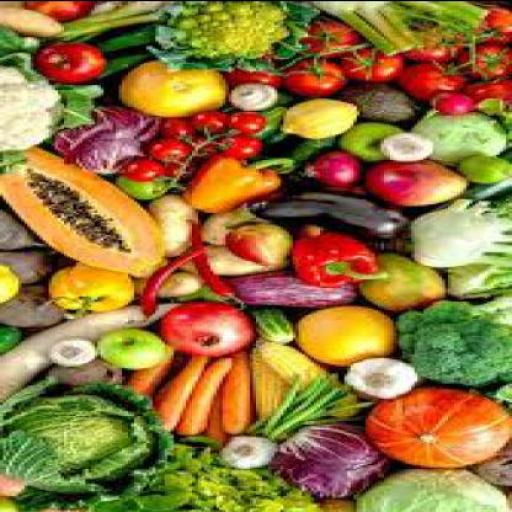biodegradable: (2, 1, 511, 511), (2, 380, 181, 511), (10, 145, 170, 278), (3, 302, 189, 408), (368, 382, 511, 468), (158, 2, 323, 73), (302, 2, 494, 60), (396, 294, 511, 390), (88, 442, 232, 511), (274, 423, 392, 500), (50, 104, 168, 175), (30, 172, 131, 251), (260, 342, 366, 416), (262, 194, 412, 242), (355, 465, 512, 510), (415, 196, 511, 268), (186, 157, 301, 213), (417, 99, 511, 166), (128, 62, 229, 120), (262, 379, 366, 435), (192, 220, 254, 313), (308, 306, 398, 370), (2, 66, 64, 152), (146, 244, 213, 322), (305, 232, 393, 290), (52, 263, 138, 319), (369, 253, 448, 312), (372, 160, 469, 208), (162, 305, 259, 353), (176, 357, 234, 437), (235, 273, 366, 307), (216, 470, 322, 512), (250, 352, 301, 430), (64, 2, 161, 41), (222, 220, 296, 270), (159, 353, 204, 433), (345, 356, 421, 403), (152, 194, 206, 258), (347, 82, 430, 121), (283, 101, 366, 140), (97, 328, 174, 370), (3, 285, 73, 329), (204, 353, 235, 449), (268, 136, 345, 174), (46, 358, 132, 392), (402, 61, 469, 103), (204, 244, 281, 280), (40, 45, 114, 82), (450, 258, 511, 302), (342, 123, 406, 163), (284, 60, 350, 98), (470, 149, 512, 208), (204, 212, 271, 247), (226, 350, 253, 433), (399, 29, 466, 61), (131, 352, 177, 398), (458, 41, 512, 80), (308, 20, 366, 56), (95, 24, 161, 55), (311, 150, 362, 190), (350, 47, 408, 82), (3, 246, 61, 281), (4, 33, 46, 77), (119, 170, 180, 200), (250, 308, 299, 344), (3, 207, 43, 251), (2, 8, 64, 36), (387, 132, 439, 164), (64, 84, 103, 126), (226, 436, 277, 468), (101, 49, 153, 79), (234, 82, 284, 112), (259, 106, 296, 145), (168, 283, 232, 305), (475, 8, 511, 46), (463, 156, 511, 184), (52, 340, 103, 366), (222, 134, 272, 160), (235, 63, 289, 87), (479, 447, 511, 487), (122, 158, 171, 183), (149, 136, 198, 161), (153, 273, 204, 297), (30, 2, 100, 19), (440, 92, 482, 116), (165, 118, 204, 142), (2, 266, 24, 306), (472, 79, 510, 102), (2, 322, 24, 357), (3, 150, 34, 172), (201, 112, 232, 134), (3, 474, 30, 498), (168, 162, 201, 181), (240, 115, 272, 134), (320, 500, 361, 510), (198, 141, 217, 161), (2, 498, 28, 511), (100, 2, 122, 15)
